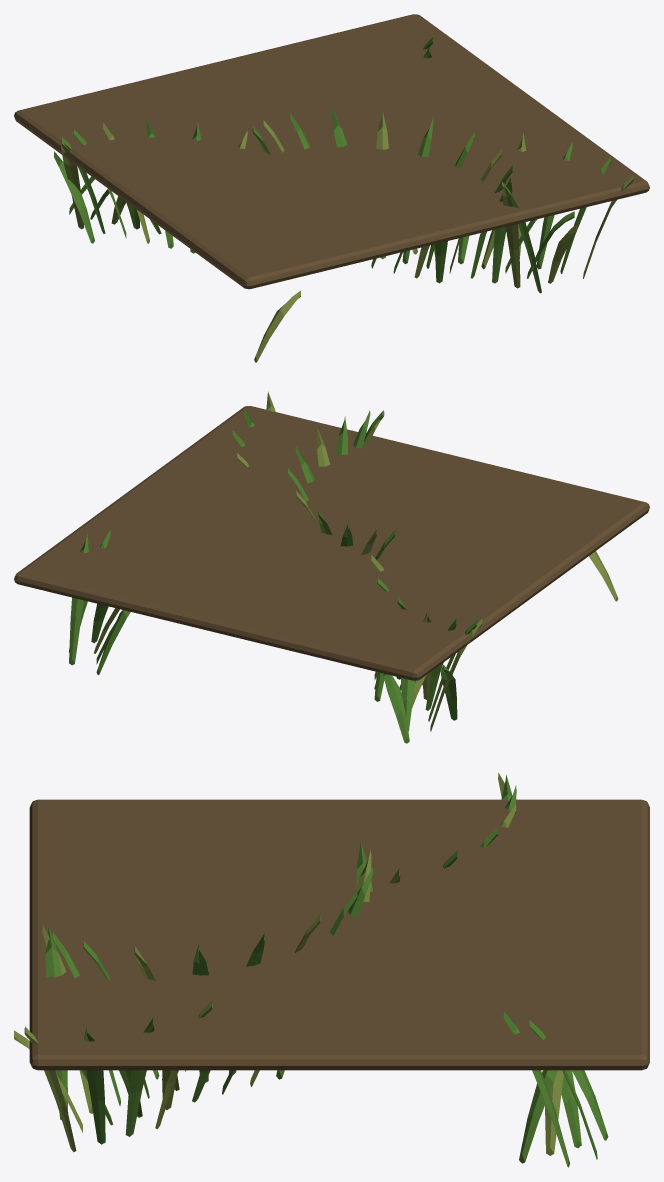
Rendered from source-edit.glb.
The picture shows the model from 3 angles, top to bottom: view 1: azimuth 30°, elevation 25°; view 2: azimuth 150°, elevation 25°; view 3: azimuth 270°, elevation 25°; orthographic projection. The views are drawn at different scales.
Visible parts, largest first — view 1: GRASS_Soil, GRASS_Blade_54, GRASS_Blade_61, GRASS_Blade_49, GRASS_Blade_0, GRASS_Blade_59, GRASS_Blade_33, GRASS_Blade_36; view 2: GRASS_Soil, GRASS_Blade_5, GRASS_Blade_23, GRASS_Blade_61; view 3: GRASS_Soil, GRASS_Blade_13, GRASS_Blade_56, GRASS_Blade_8, GRASS_Blade_18, GRASS_Blade_28, GRASS_Blade_46, GRASS_Blade_51, GRASS_Blade_59, GRASS_Blade_41.
Part boxes in pixels (bbox=[...]): GRASS_Soil: bbox=[14, 14, 649, 289]; GRASS_Blade_54: bbox=[502, 183, 520, 288]; GRASS_Blade_61: bbox=[54, 151, 94, 243]; GRASS_Blade_49: bbox=[492, 178, 512, 283]; GRASS_Blade_0: bbox=[254, 290, 300, 362]; GRASS_Blade_59: bbox=[501, 181, 541, 293]; GRASS_Blade_33: bbox=[61, 139, 83, 229]; GRASS_Blade_36: bbox=[548, 225, 577, 283]; GRASS_Soil: bbox=[14, 406, 649, 680]; GRASS_Blade_5: bbox=[383, 673, 409, 743]; GRASS_Blade_23: bbox=[69, 534, 88, 665]; GRASS_Blade_61: bbox=[441, 664, 457, 720]; GRASS_Soil: bbox=[29, 799, 649, 1070]; GRASS_Blade_13: bbox=[84, 1026, 105, 1144]; GRASS_Blade_56: bbox=[519, 1070, 557, 1163]; GRASS_Blade_8: bbox=[125, 1018, 154, 1136]; GRASS_Blade_18: bbox=[24, 1026, 76, 1152]; GRASS_Blade_28: bbox=[503, 1011, 569, 1167]; GRASS_Blade_46: bbox=[561, 1070, 581, 1148]; GRASS_Blade_51: bbox=[545, 1070, 563, 1155]; GRASS_Blade_59: bbox=[45, 925, 68, 1120]; GRASS_Blade_41: bbox=[572, 1070, 608, 1140].
Bounding box in the file's own units: 0.9165 × 0.27 × 0.9229.
